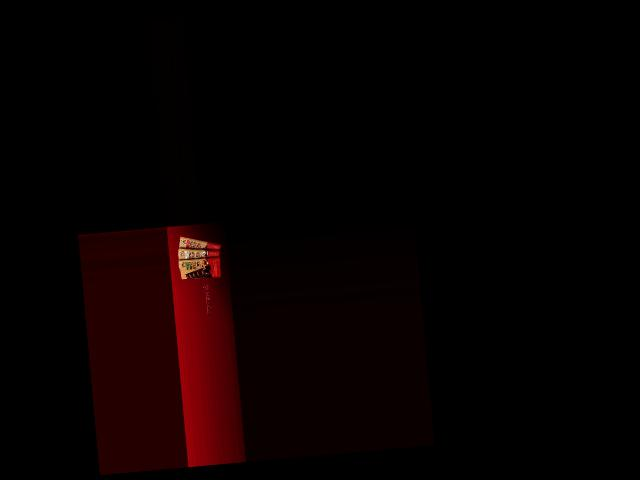chocolate: (175, 233, 223, 258)
